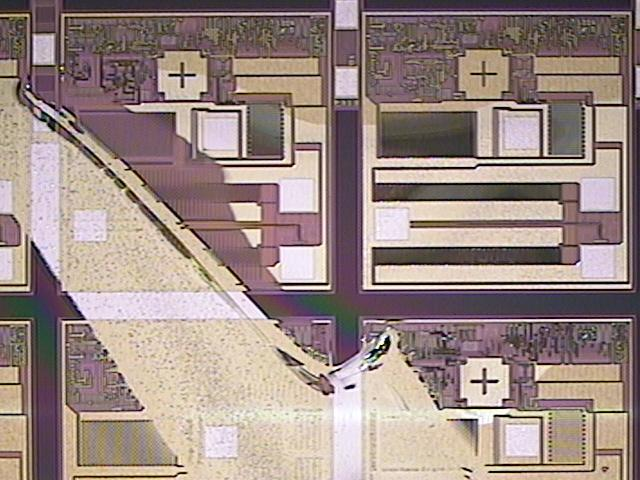BLOCK ETCH: (1, 67, 513, 480)
